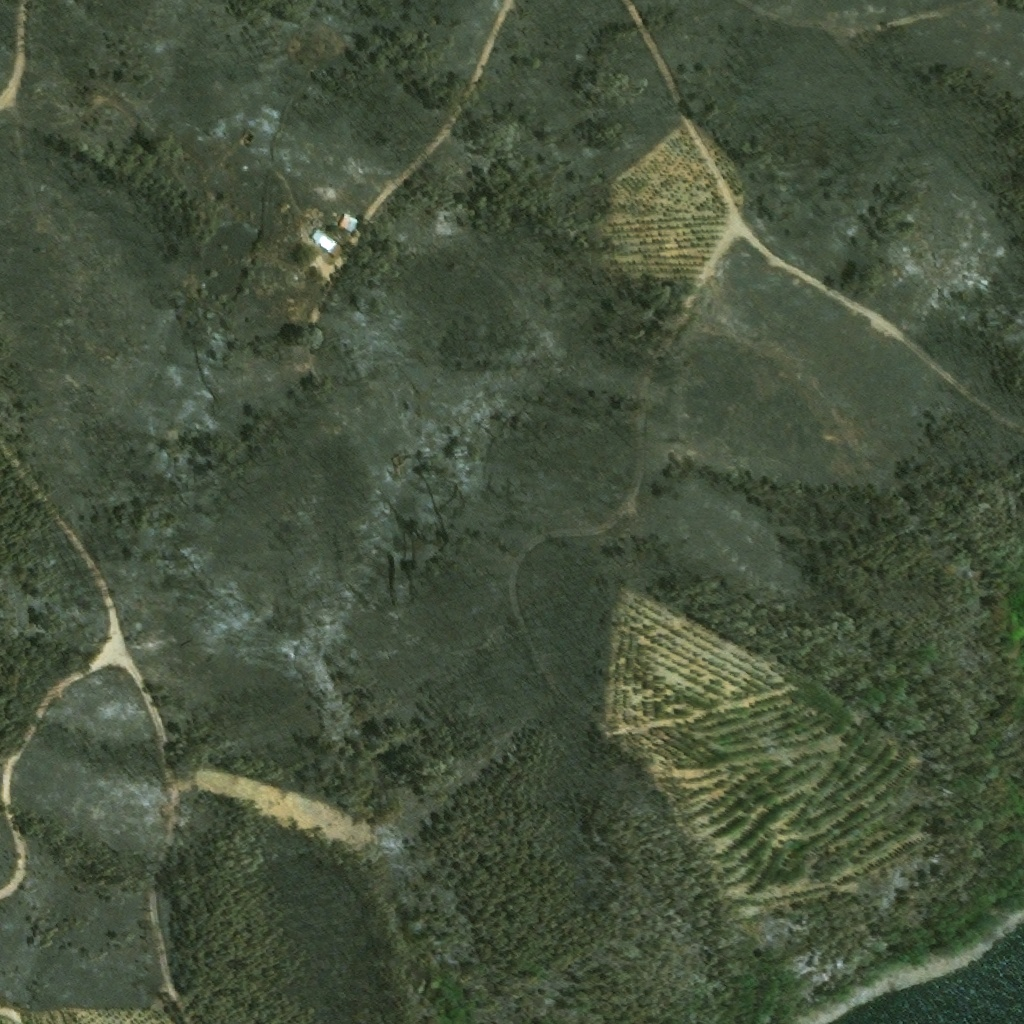0 no-damage: (307, 222, 344, 258), (337, 212, 361, 234)
